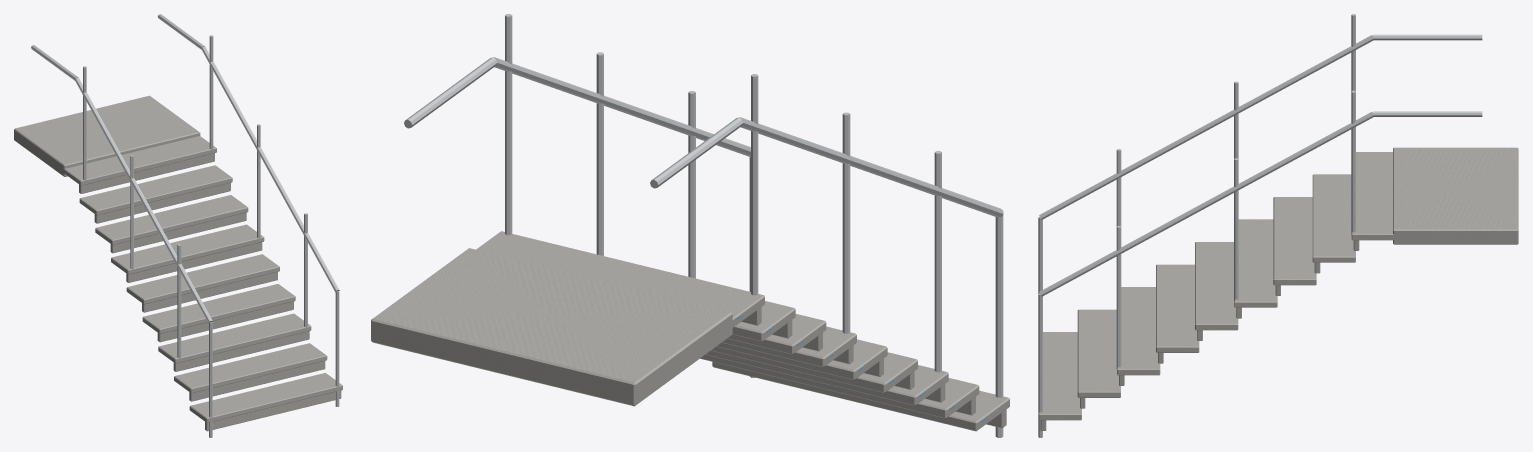
Rendered from japanese-school-and-city-street-stair-flight-1600-6f05ec6e__30055.glb.
3 views of the same model, side by side, from view 1: azimuth 30°, elevation 25°; view 2: azimuth 150°, elevation 25°; view 3: azimuth 270°, elevation 25° (orthographic). The views are drawn at different scales.
Parts seen in each view (by area): view 1: stair-flight-1600; view 2: stair-flight-1600; view 3: stair-flight-1600.
Part boxes in pixels (x1,y1,x2,y2): stair-flight-1600: (14,14,342,437); stair-flight-1600: (371,14,1009,437); stair-flight-1600: (1038,14,1518,437).
Bounding box in the file's own units: 1.4 × 2.73 × 3.44.
Materials: 3 (1 with a texture image).
